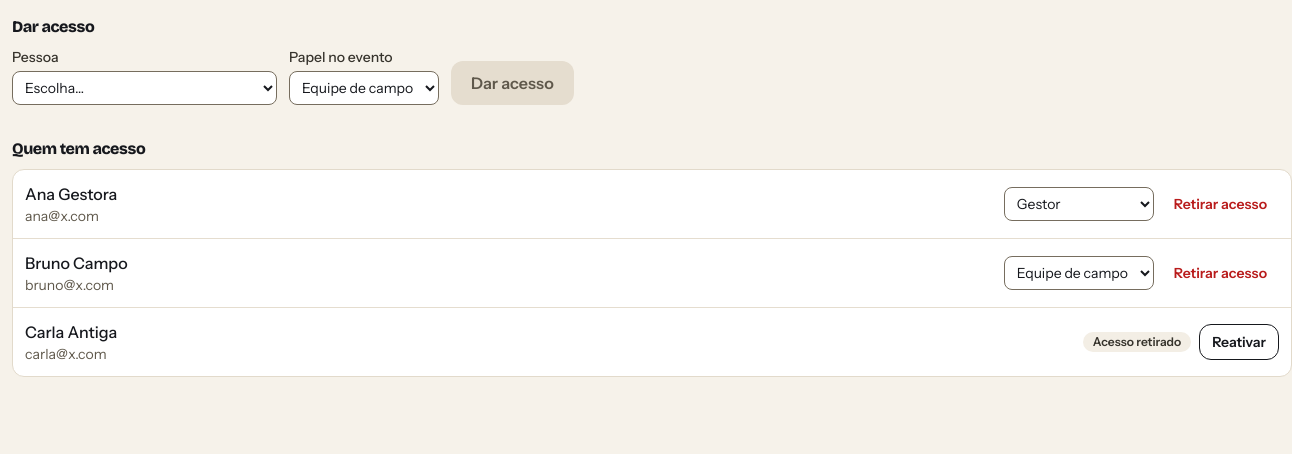
Scenario: EventAccessManager › sem conexão, diz que a ação exige internet e nem tenta enviar
The width and height of the screenshot is (1292, 454).
Click the button with aria-label "Retirar o acesso de Bruno Campo": (1220, 273) [1162, 255, 1279, 291]
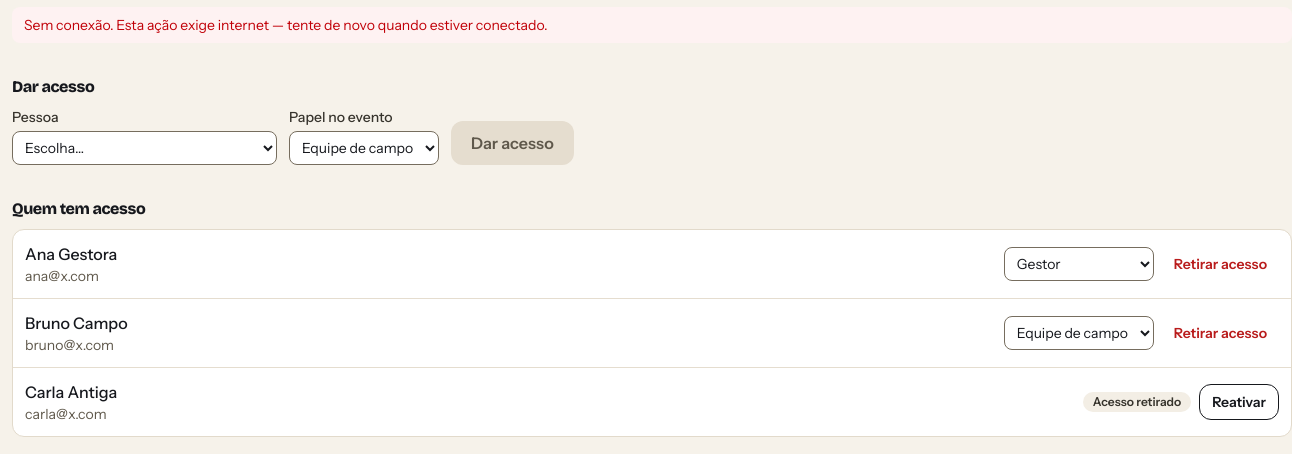
Now the message reads "Sem conexão. Esta ação exige internet — tente de novo quando estiver conectado.", box [24, 16, 548, 34]
